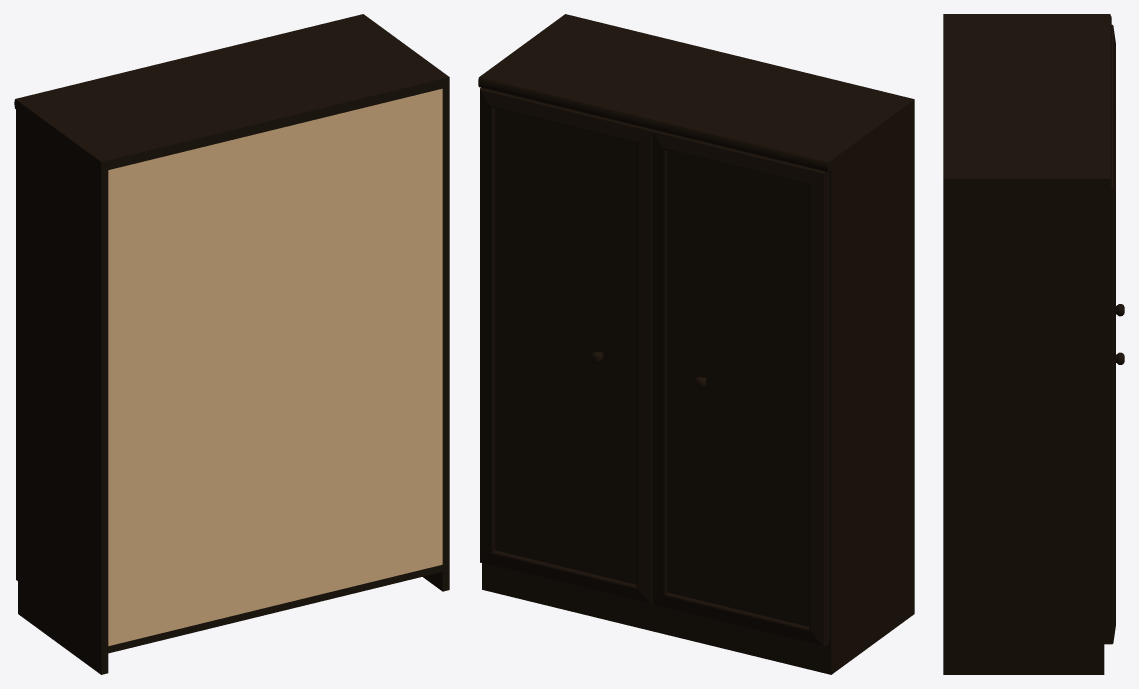
The picture shows the model from 3 angles, left to right: view 1: azimuth 30°, elevation 25°; view 2: azimuth 150°, elevation 25°; view 3: azimuth 270°, elevation 25°; orthographic projection. The views are drawn at different scales.
Visible parts, largest first — view 1: mesh5_mesh5-geometry, mesh1_mesh1-geometry, mesh4_mesh4-geometry, mesh3_mesh3-geometry, mesh10_mesh10-geometry; view 2: mesh10_mesh10-geometry, mesh8_mesh8-geometry, mesh1_mesh1-geometry, mesh4_mesh4-geometry, mesh2_mesh2-geometry, mesh3_mesh3-geometry; view 3: mesh1_mesh1-geometry, mesh4_mesh4-geometry, mesh8_mesh8-geometry, mesh10_mesh10-geometry.
Part boxes in pixels (x1=…): mesh5_mesh5-geometry: x1=108, y1=88, x2=442, y2=645; mesh1_mesh1-geometry: x1=18, y1=87, x2=449, y2=674; mesh4_mesh4-geometry: x1=14, y1=14, x2=449, y2=171; mesh3_mesh3-geometry: x1=108, y1=564, x2=442, y2=653; mesh10_mesh10-geometry: x1=16, y1=110, x2=17, y2=580; mesh10_mesh10-geometry: x1=652, y1=130, x2=829, y2=646; mesh8_mesh8-geometry: x1=480, y1=87, x2=653, y2=604; mesh1_mesh1-geometry: x1=482, y1=109, x2=914, y2=674; mesh4_mesh4-geometry: x1=478, y1=14, x2=914, y2=172; mesh2_mesh2-geometry: x1=489, y1=571, x2=824, y2=672; mesh3_mesh3-geometry: x1=489, y1=565, x2=824, y2=653; mesh1_mesh1-geometry: x1=943, y1=188, x2=1104, y2=674; mesh4_mesh4-geometry: x1=943, y1=14, x2=1111, y2=187; mesh8_mesh8-geometry: x1=1104, y1=106, x2=1115, y2=644; mesh10_mesh10-geometry: x1=1111, y1=24, x2=1115, y2=123.
Bounding box in the file's own units: 0.5592 × 0.7871 × 0.2603.
